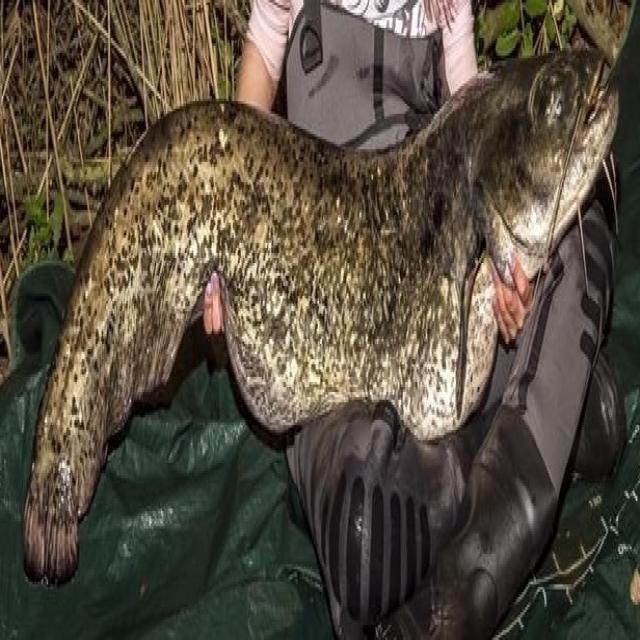Catfish: (23, 28, 640, 612)
